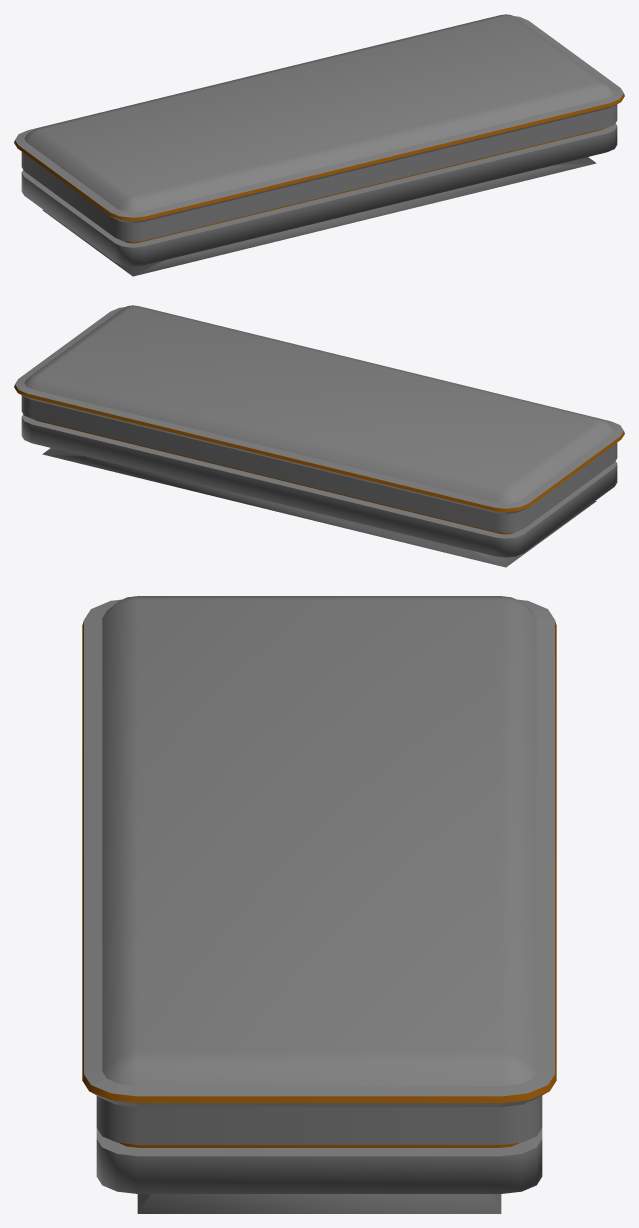
Rendered from cama.fbx.
3 views of the same model, one above another, from view 1: azimuth 30°, elevation 25°; view 2: azimuth 150°, elevation 25°; view 3: azimuth 270°, elevation 25° (orthographic). The views are drawn at different scales.
Visible parts, largest first — view 1: cama; view 2: cama; view 3: cama.
Part boxes in pixels (x1,y1,x2,y2): cama: [14, 14, 624, 276]; cama: [14, 305, 624, 567]; cama: [82, 596, 556, 1213].
Bounding box in the file's own units: 165 × 24.85 × 66.26.
